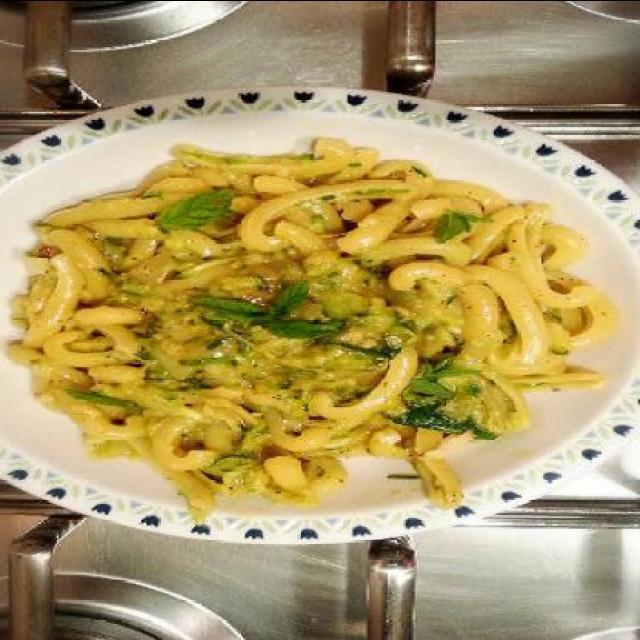Pasta with carbonara sauce: (18, 102, 600, 513)
